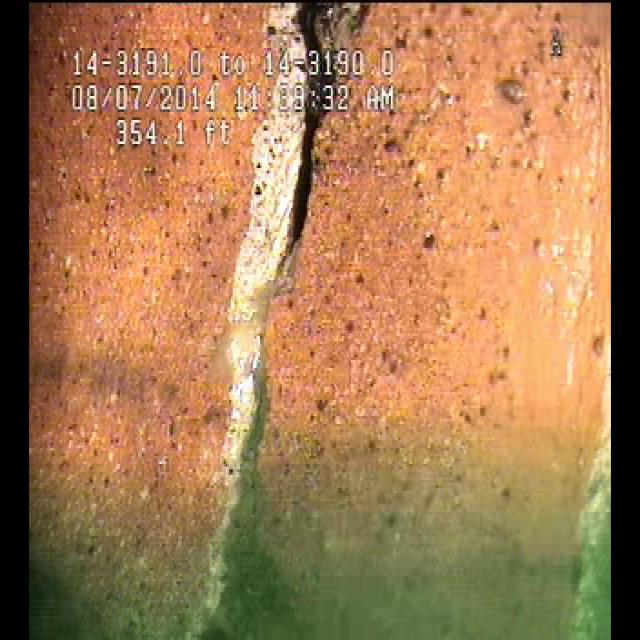Fracture: (218, 140, 342, 548)
